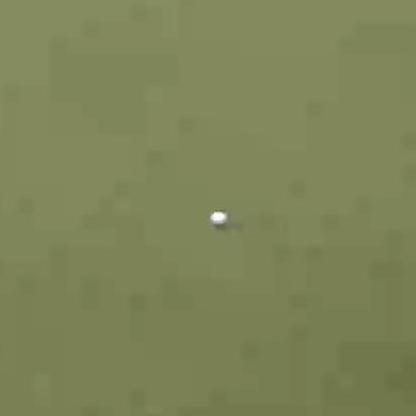golfball: (210, 210, 226, 224)
